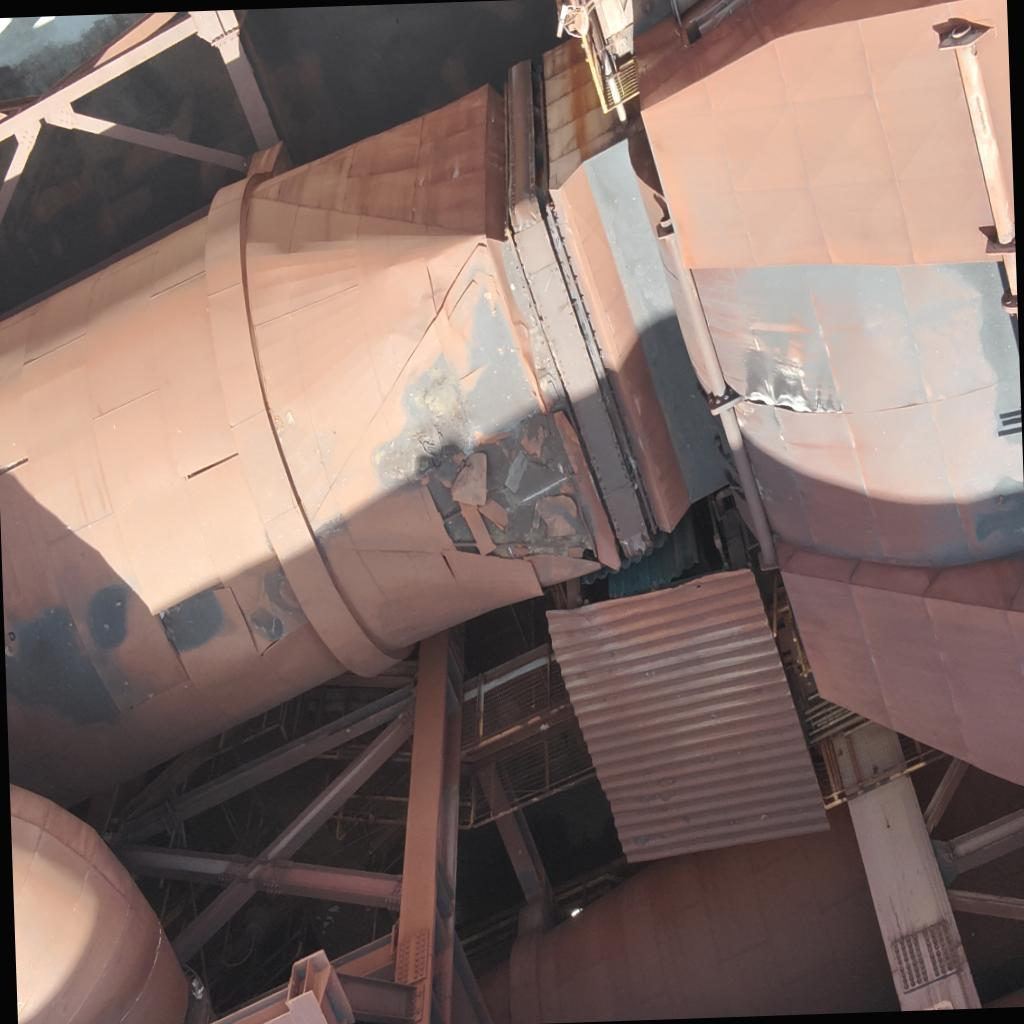Failures: (426, 374, 606, 574), (142, 566, 309, 671), (734, 336, 856, 427)
